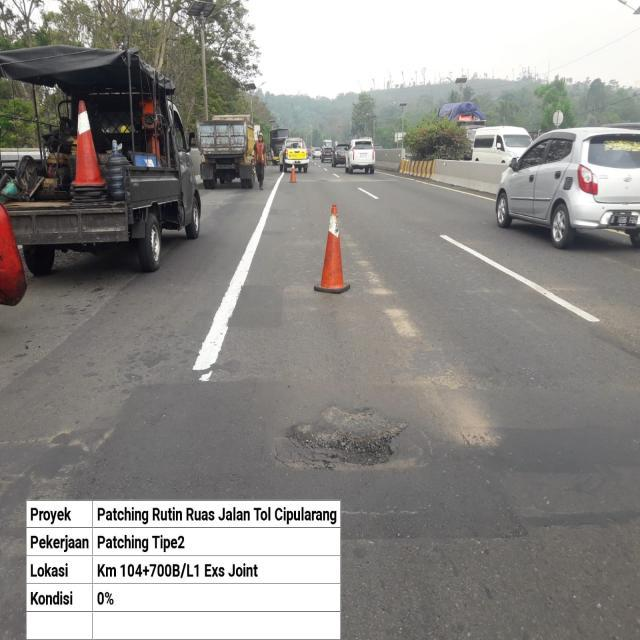Buraco: (267, 402, 412, 473)
